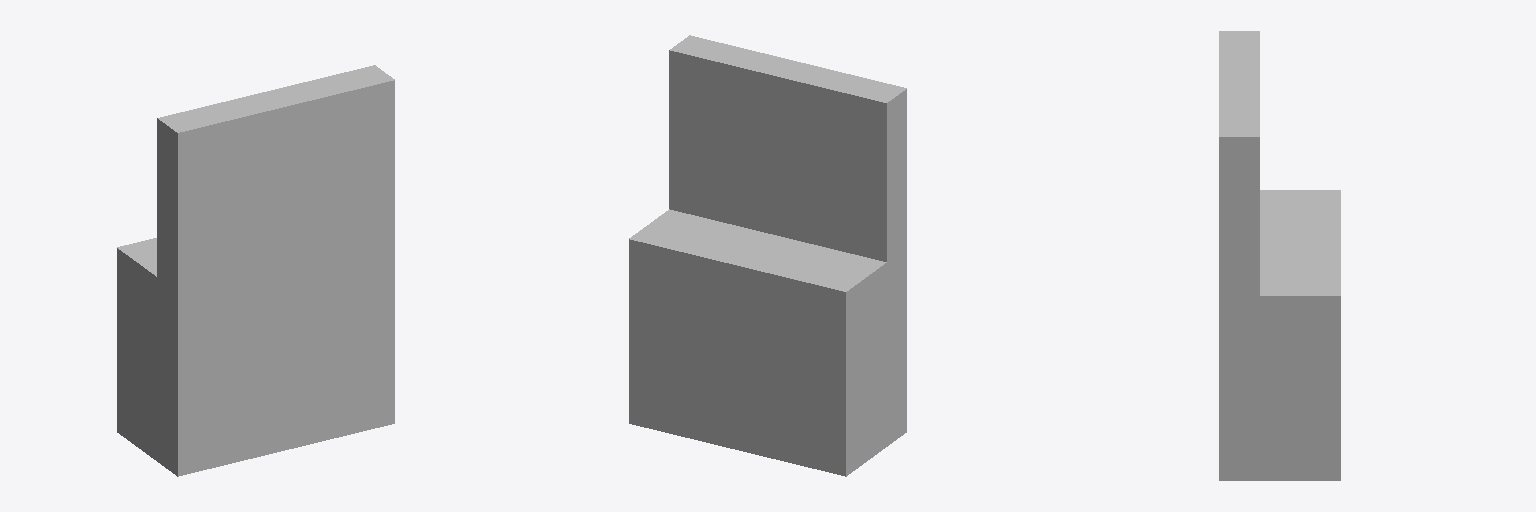
Rendered from Alacena_Uv.obj.
3 renders of one model, left to right at view 1: azimuth 30°, elevation 25°; view 2: azimuth 150°, elevation 25°; view 3: azimuth 270°, elevation 25°, orthographic.
Parts seen in each view (by area): view 1: Cube.003_Cube.012; view 2: Cube.003_Cube.012; view 3: Cube.003_Cube.012.
Part boxes in pixels (x1,y1,x2,y2): Cube.003_Cube.012: (117, 65, 394, 476); Cube.003_Cube.012: (629, 35, 906, 476); Cube.003_Cube.012: (1219, 31, 1340, 480).
Size of the model in its own units: 2 by 3.02 by 0.9735.